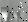person: (2, 8, 10, 22), (15, 9, 20, 21)
